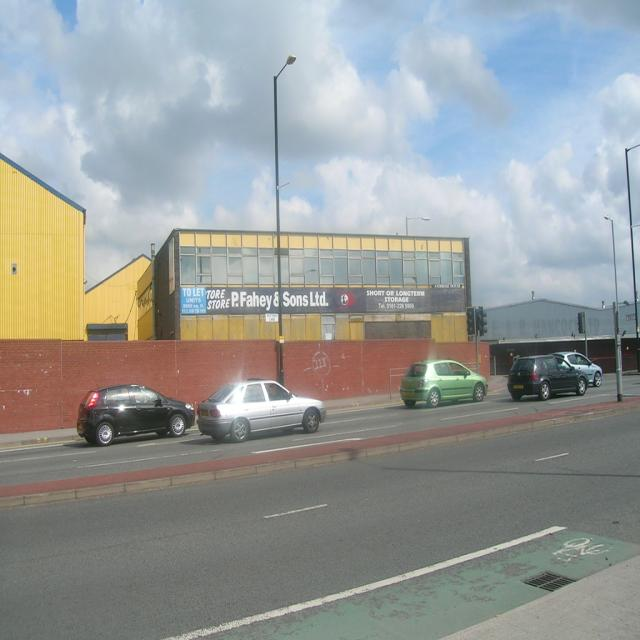car: (182, 375, 325, 444), (74, 379, 194, 446), (400, 355, 487, 411), (506, 350, 590, 396), (557, 347, 601, 385)
